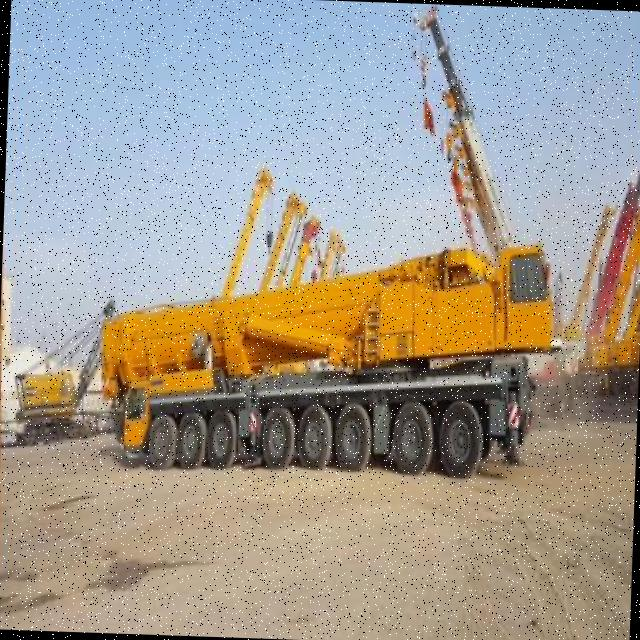Mobile Crane: (98, 230, 558, 481)
